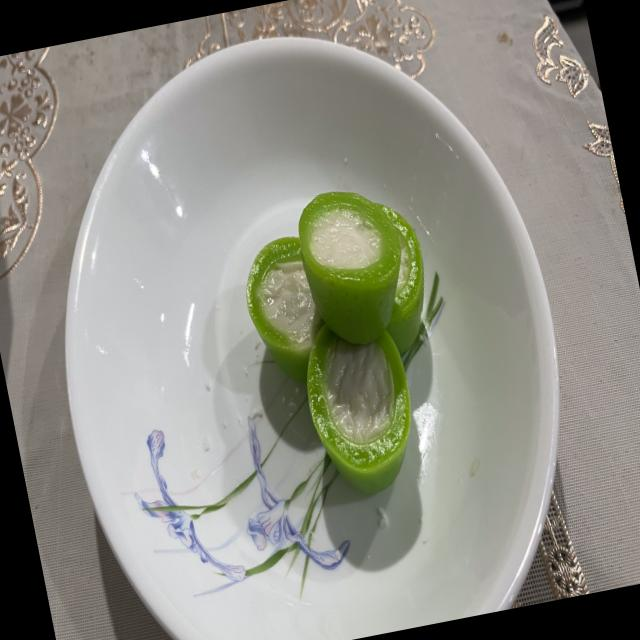nona-manis: (307, 325, 411, 494), (299, 192, 401, 344), (246, 237, 323, 381), (377, 204, 424, 354)
